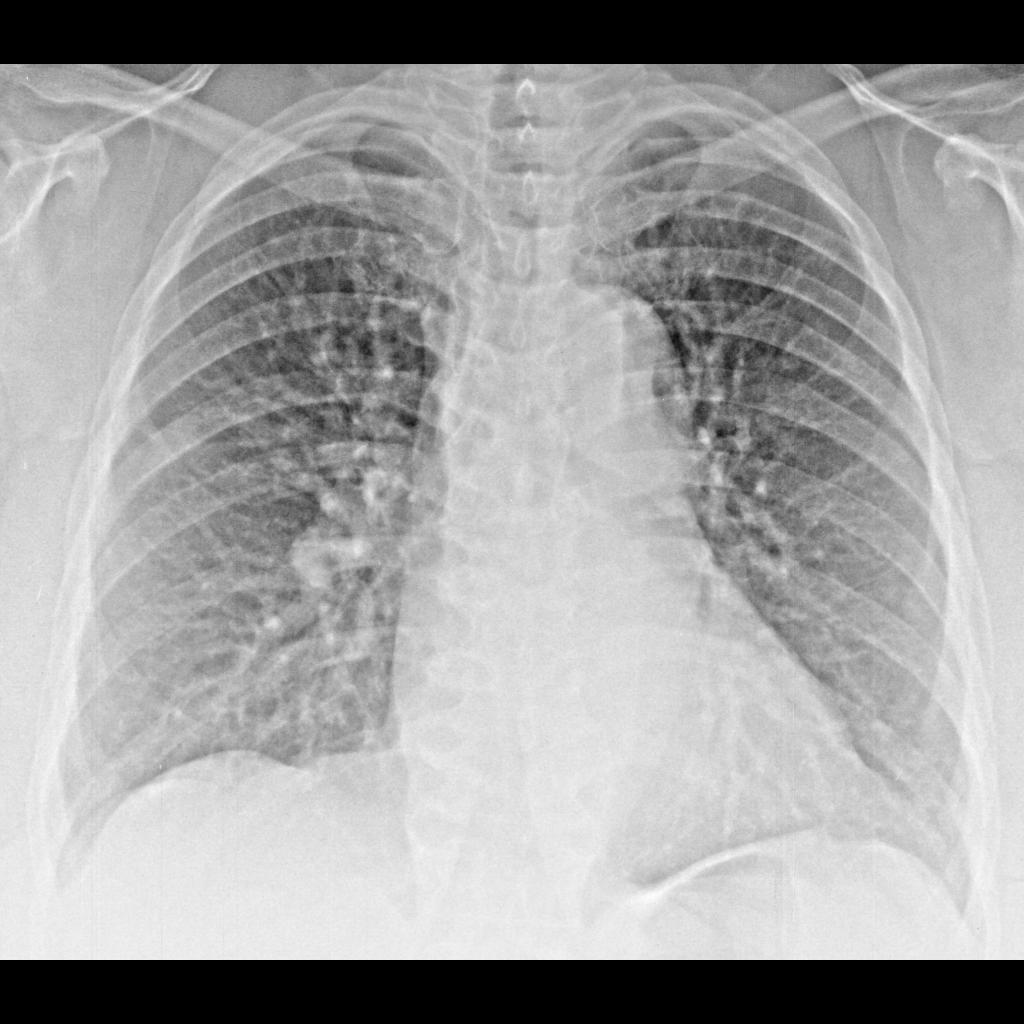Nodule: (143, 413, 195, 465)
